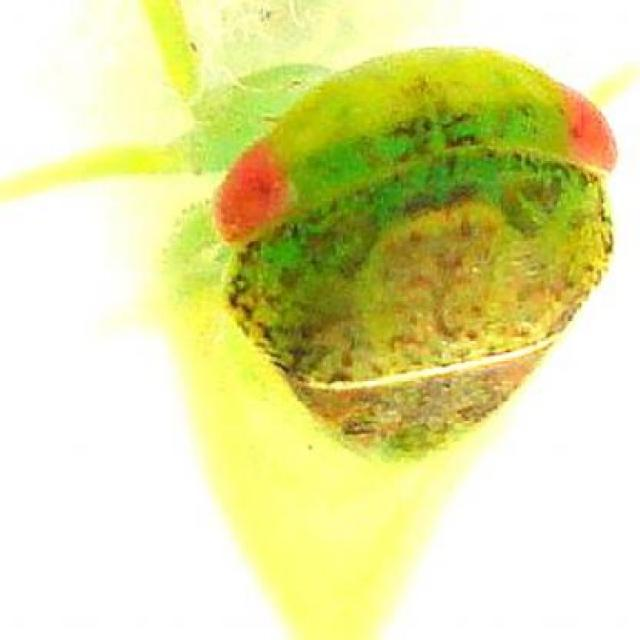green-leafhopper: (148, 1, 615, 598)
